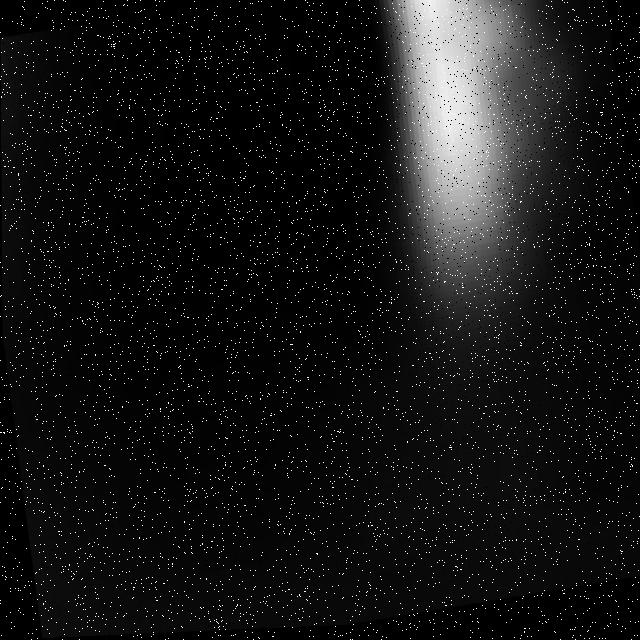person: (355, 1, 577, 375)
